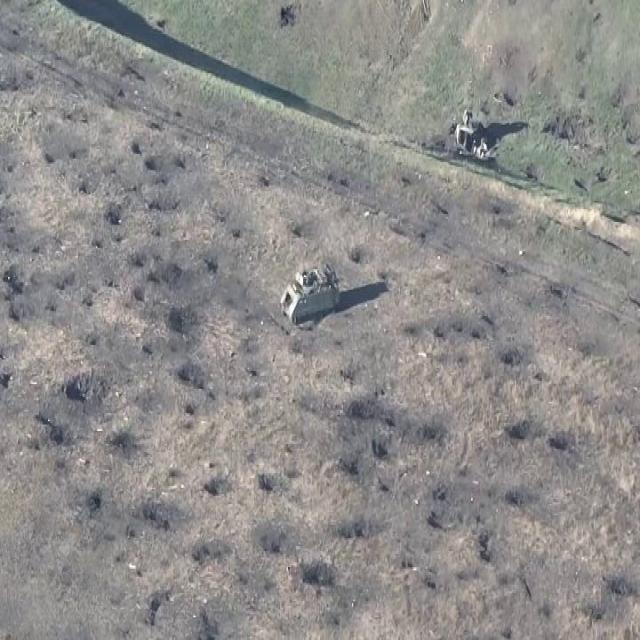APC: (279, 265, 341, 332)
Destroyed: (455, 111, 490, 162)
